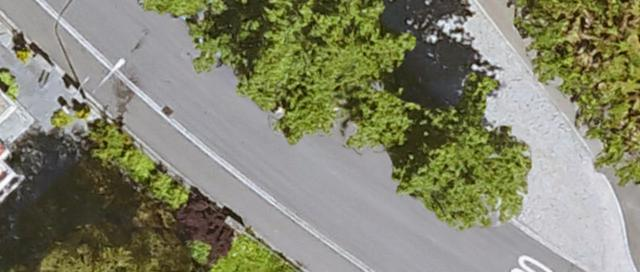tree: (194, 0, 425, 153), (519, 0, 640, 181), (410, 72, 531, 229), (12, 206, 193, 272)
